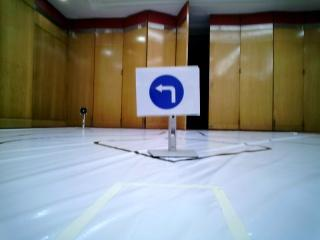left: (136, 71, 193, 116)
